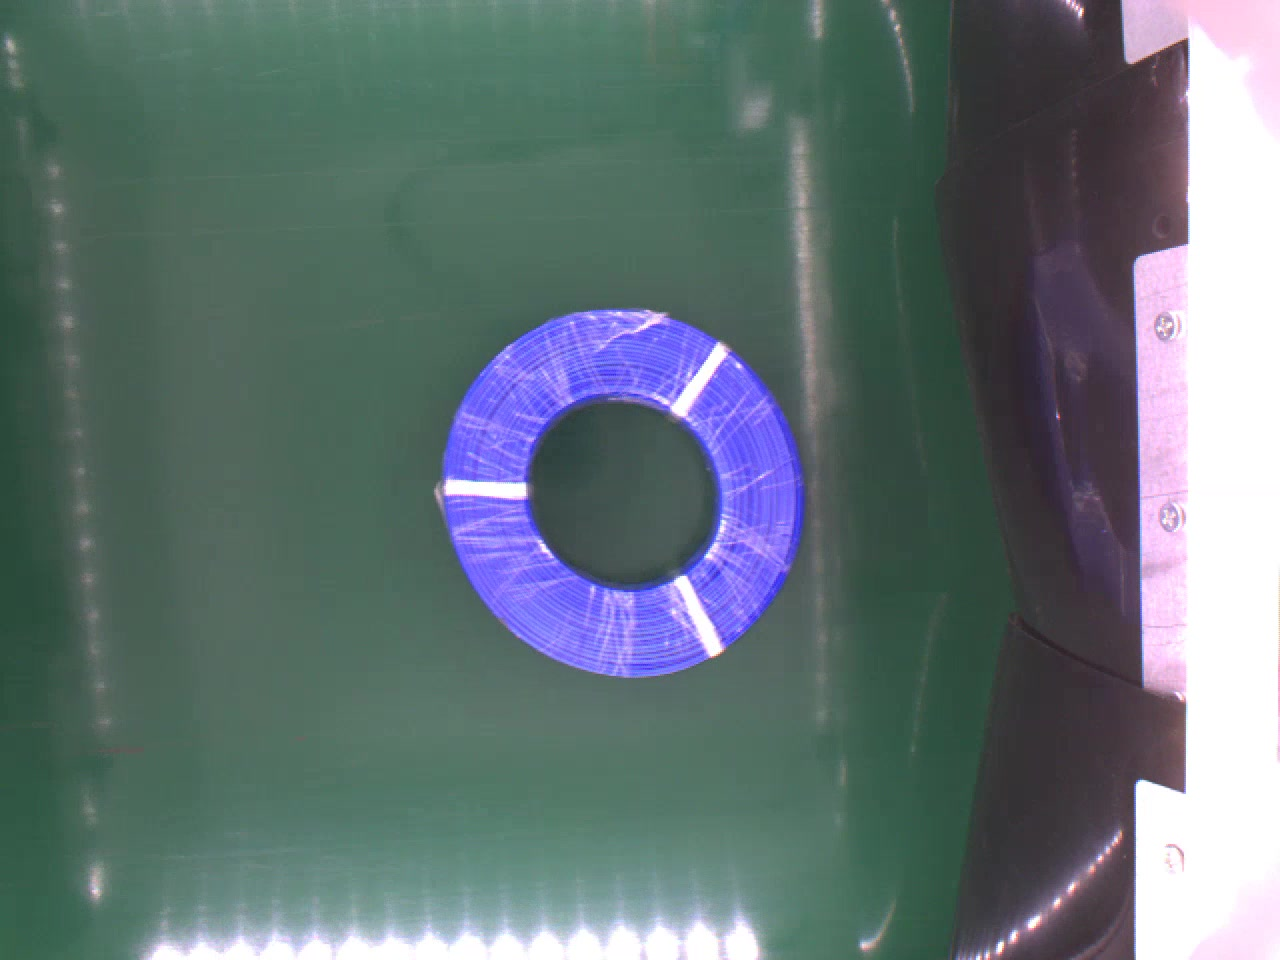blue: (422, 295, 804, 679)
